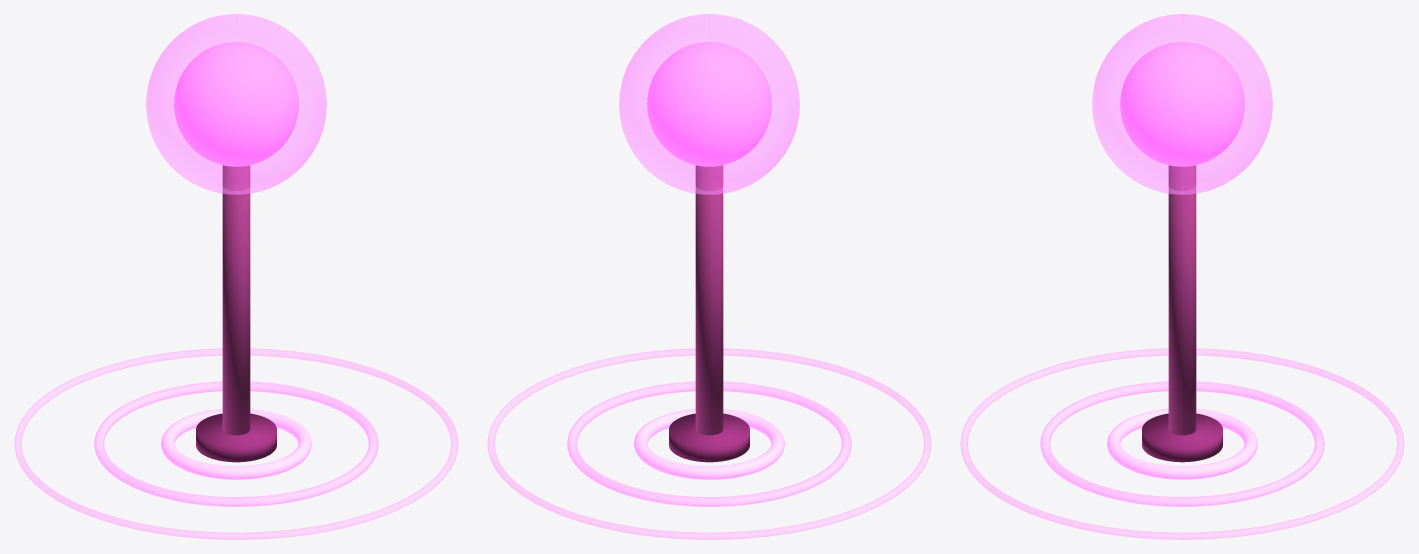
Rendered from map-pin-pink.glb.
The picture shows the model from 3 angles, left to right: view 1: azimuth 30°, elevation 25°; view 2: azimuth 150°, elevation 25°; view 3: azimuth 270°, elevation 25°; orthographic projection.
Parts seen in each view (by area): view 1: Glow, Cap, Pulse2, Column, Pulse1, Pulse0, Base; view 2: Glow, Cap, Pulse2, Column, Pulse1, Pulse0, Base; view 3: Glow, Cap, Pulse2, Column, Pulse1, Pulse0, Base.
Part boxes in pixels (x1,y1,x2,y2): Glow: [146, 14, 326, 194]; Cap: [174, 42, 298, 166]; Pulse2: [14, 348, 458, 539]; Column: [222, 165, 250, 435]; Pulse1: [94, 381, 378, 506]; Pulse0: [161, 408, 311, 479]; Base: [196, 413, 276, 462]; Glow: [619, 14, 799, 194]; Cap: [647, 42, 771, 166]; Pulse2: [487, 348, 931, 539]; Column: [695, 165, 723, 435]; Pulse1: [567, 381, 851, 506]; Pulse0: [634, 408, 784, 479]; Base: [669, 413, 749, 462]; Glow: [1092, 14, 1272, 194]; Cap: [1120, 42, 1244, 166]; Pulse2: [960, 348, 1404, 539]; Column: [1168, 165, 1196, 435]; Pulse1: [1040, 381, 1324, 506]; Pulse0: [1107, 408, 1257, 479]; Base: [1142, 413, 1222, 462].
Size of the model in its own units: 1.42 by 1.51 by 1.42.
